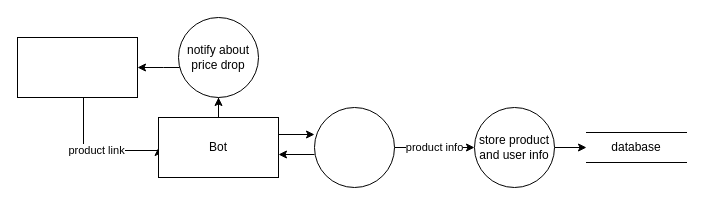
Image size: 704x205. Some labels were removed from this diagram. The box of each missing label's shape, as (x1, y1, x2, y2) in pixels:
scrape data: (314, 106, 394, 188)
User: (16, 36, 138, 98)
